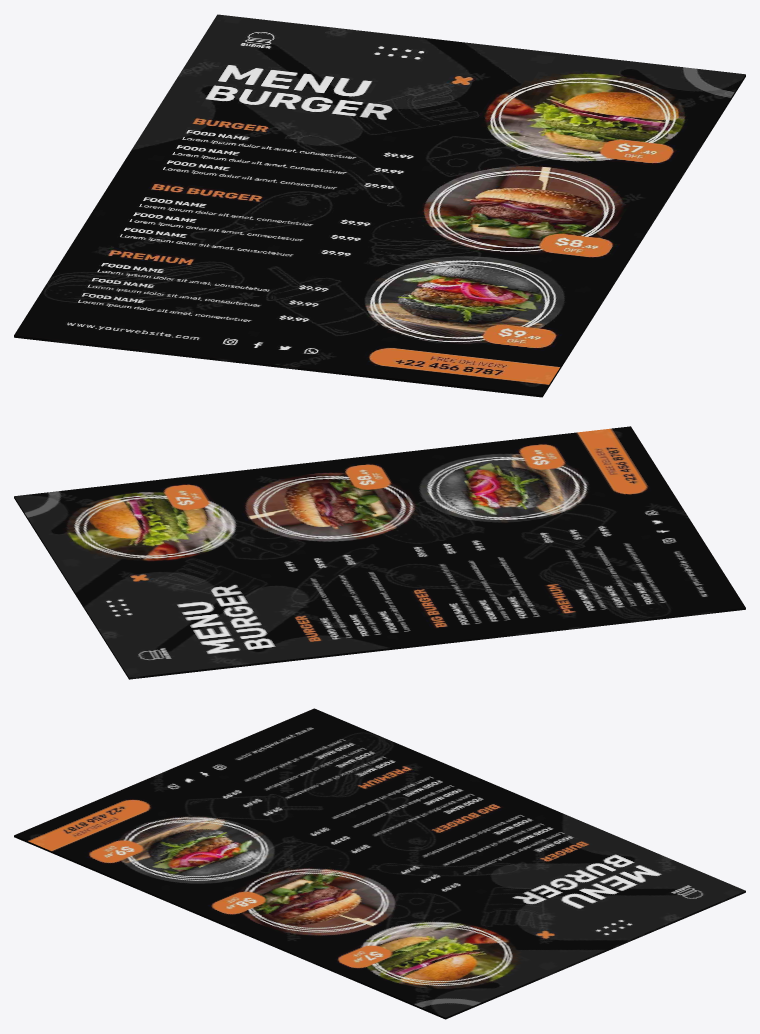
File: Menu.glb
The picture shows the model from 3 angles, top to bottom: view 1: azimuth 30°, elevation 25°; view 2: azimuth 150°, elevation 25°; view 3: azimuth 270°, elevation 25°; orthographic projection. The views are drawn at different scales.
Parts seen in each view (by area): view 1: Menu_instance.001; view 2: Menu_instance.001; view 3: Menu_instance.001.
Part boxes in pixels (bbox=[...]): Menu_instance.001: bbox=[14, 14, 745, 397]; Menu_instance.001: bbox=[14, 426, 745, 679]; Menu_instance.001: bbox=[14, 708, 745, 1019].
Size of the model in its own units: 0.3798 by 0.00104 by 0.3798.
1 material, 1 textured.
